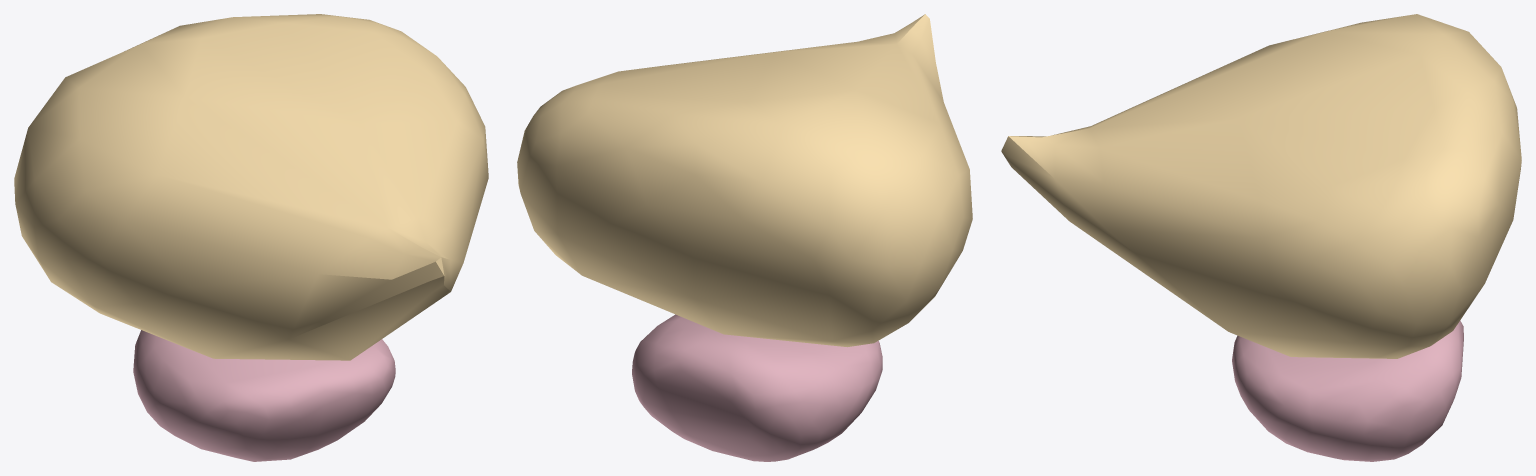
File: male-classified-pelvis.glb
3 renders of one model, left to right at view 1: azimuth 30°, elevation 25°; view 2: azimuth 150°, elevation 25°; view 3: azimuth 270°, elevation 25°, orthographic. The views are drawn at different scales.
Parts seen in each view (by area): view 1: FMA15900, FMA9600; view 2: FMA15900, FMA9600; view 3: FMA15900, FMA9600.
Boxes of the visible parts, x1,y1,x2,y2 form: FMA15900: (14,14,488,360); FMA9600: (133,330,395,461); FMA15900: (517,14,972,347); FMA9600: (632,314,882,461); FMA15900: (1001,14,1521,358); FMA9600: (1232,320,1463,461).
Bounding box in the file's own units: 0.0668 × 0.0579 × 0.0717.
